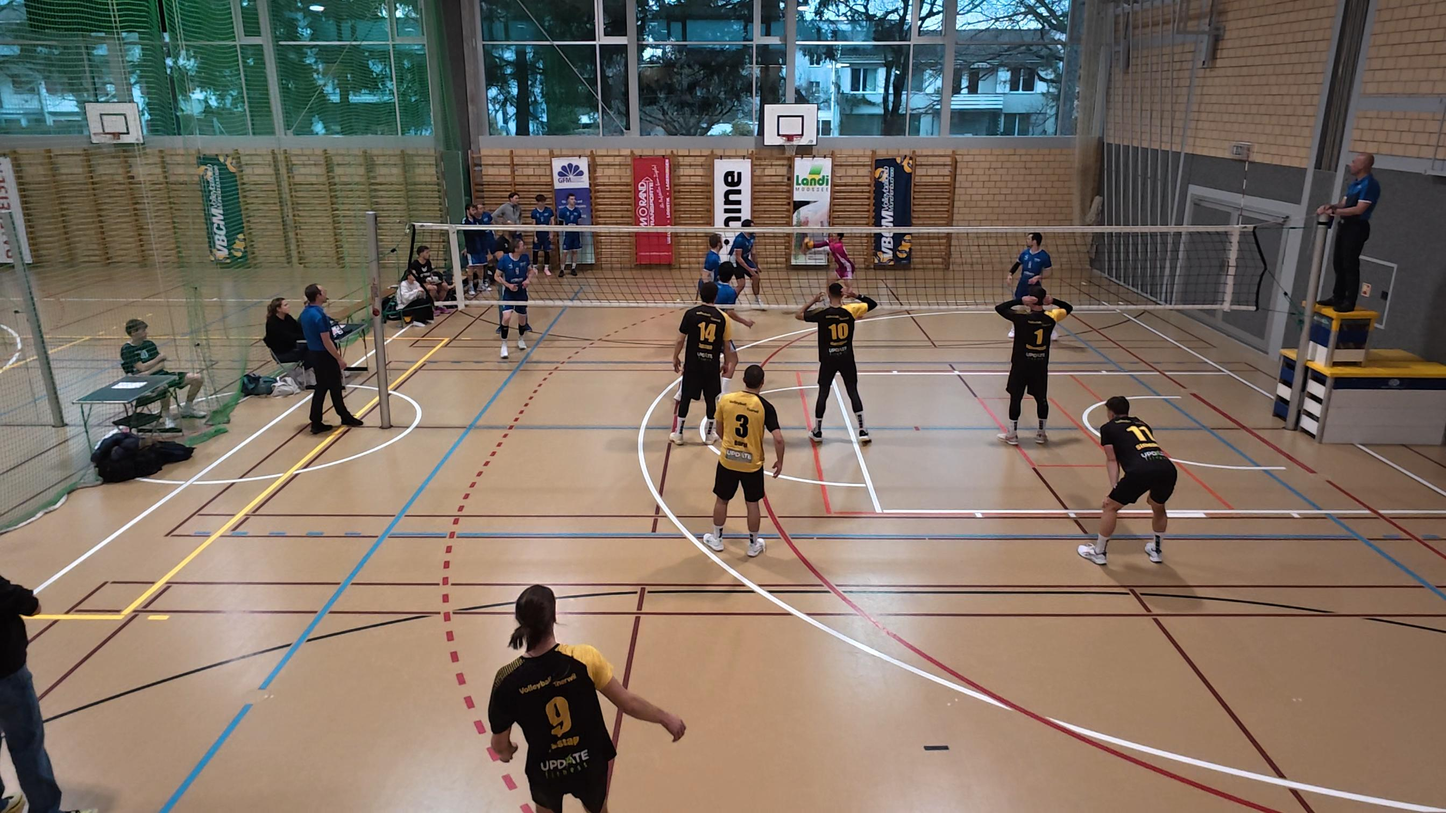battuta: (803, 231, 859, 302)
